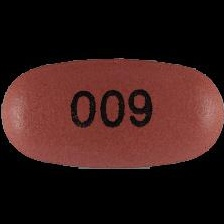17772-123: (0, 0, 224, 224)
